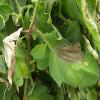Tomato mold leaf: (48, 30, 98, 89), (29, 42, 47, 60)
